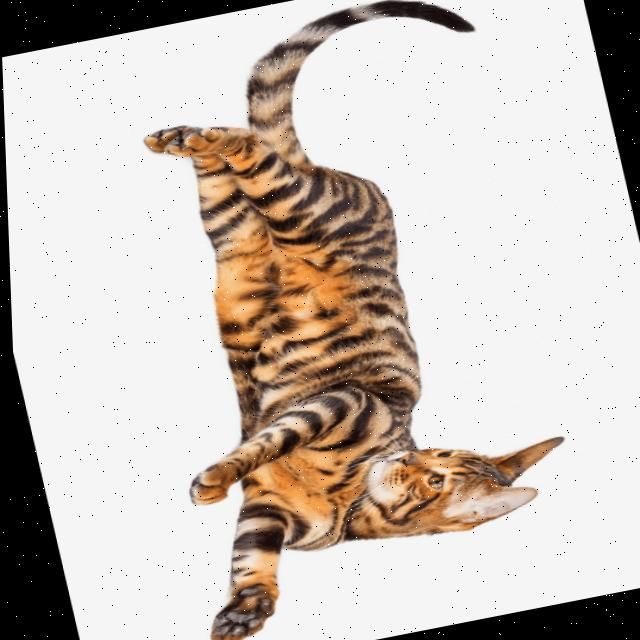Toyger: (68, 0, 602, 640)
